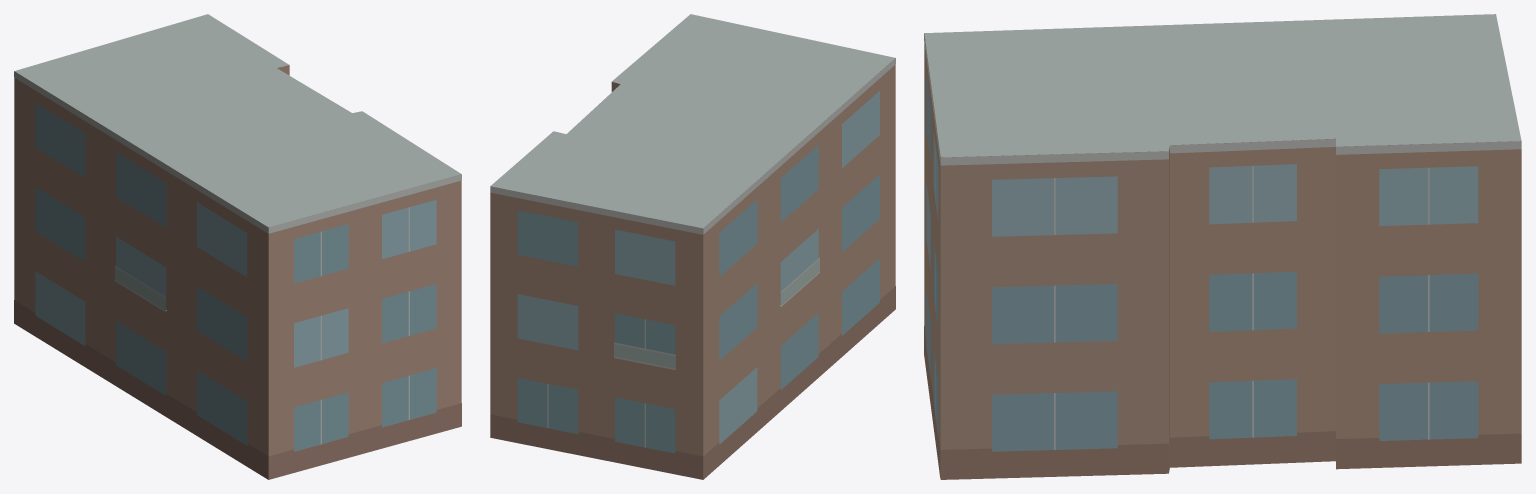
The model's file is survey-upis-32611215.glb.
3 renders of one model, left to right at view 1: azimuth 30°, elevation 25°; view 2: azimuth 150°, elevation 25°; view 3: azimuth 270°, elevation 25°, orthographic. The views are drawn at different scales.
Visible parts, largest first — view 1: survey-upis-32611215.tmp; view 2: survey-upis-32611215.tmp; view 3: survey-upis-32611215.tmp.
Part boxes in pixels (<box>): survey-upis-32611215.tmp: <box>14,14,461,479</box>; survey-upis-32611215.tmp: <box>490,14,895,479</box>; survey-upis-32611215.tmp: <box>924,14,1521,479</box>.
Size of the model in its own units: 9.17 by 9.6 by 16.13.
